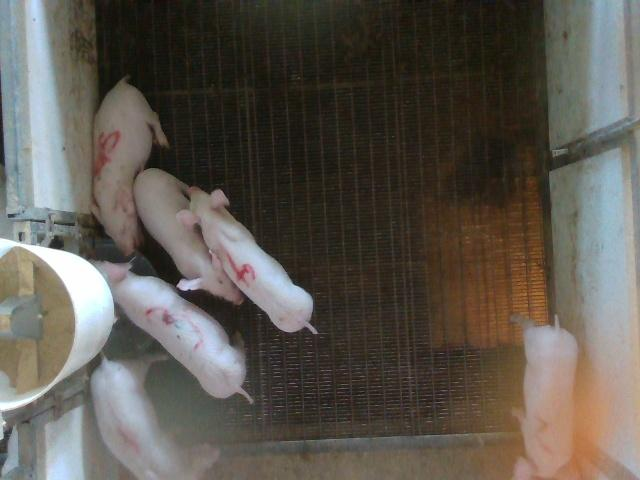pig-1: (91, 359, 186, 479)
pig-2: (515, 319, 576, 478)
pig-3: (92, 263, 252, 402)
pig-4: (176, 188, 316, 333)
pig-5: (91, 76, 169, 256)
